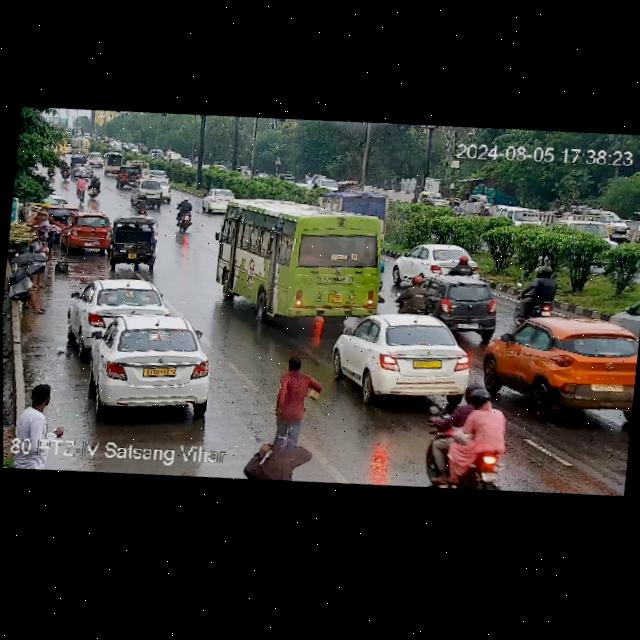bus: (210, 185, 396, 335)
car: (472, 304, 640, 428), (73, 305, 220, 422), (330, 301, 485, 409), (70, 272, 168, 344), (420, 269, 504, 341), (394, 236, 478, 286), (107, 212, 160, 264), (60, 210, 112, 254), (611, 294, 640, 346), (496, 201, 540, 230), (128, 177, 175, 202), (48, 192, 79, 226), (201, 186, 235, 216), (612, 216, 634, 244), (102, 152, 126, 176), (115, 164, 136, 189), (140, 166, 172, 181), (87, 151, 106, 168), (337, 179, 358, 194), (277, 170, 296, 184)
motorcycle: (427, 380, 512, 488), (517, 259, 561, 314), (170, 195, 196, 234), (403, 269, 427, 311), (132, 191, 156, 216), (73, 173, 90, 205), (86, 173, 105, 201), (451, 254, 474, 275), (476, 202, 495, 218), (61, 161, 72, 180), (76, 162, 84, 173)
person: (270, 352, 322, 443), (253, 432, 318, 481), (17, 385, 60, 443), (5, 263, 52, 314), (29, 227, 54, 289), (29, 207, 52, 230)
truck: (517, 202, 621, 246), (320, 187, 392, 221), (69, 136, 92, 157), (129, 158, 150, 168)
